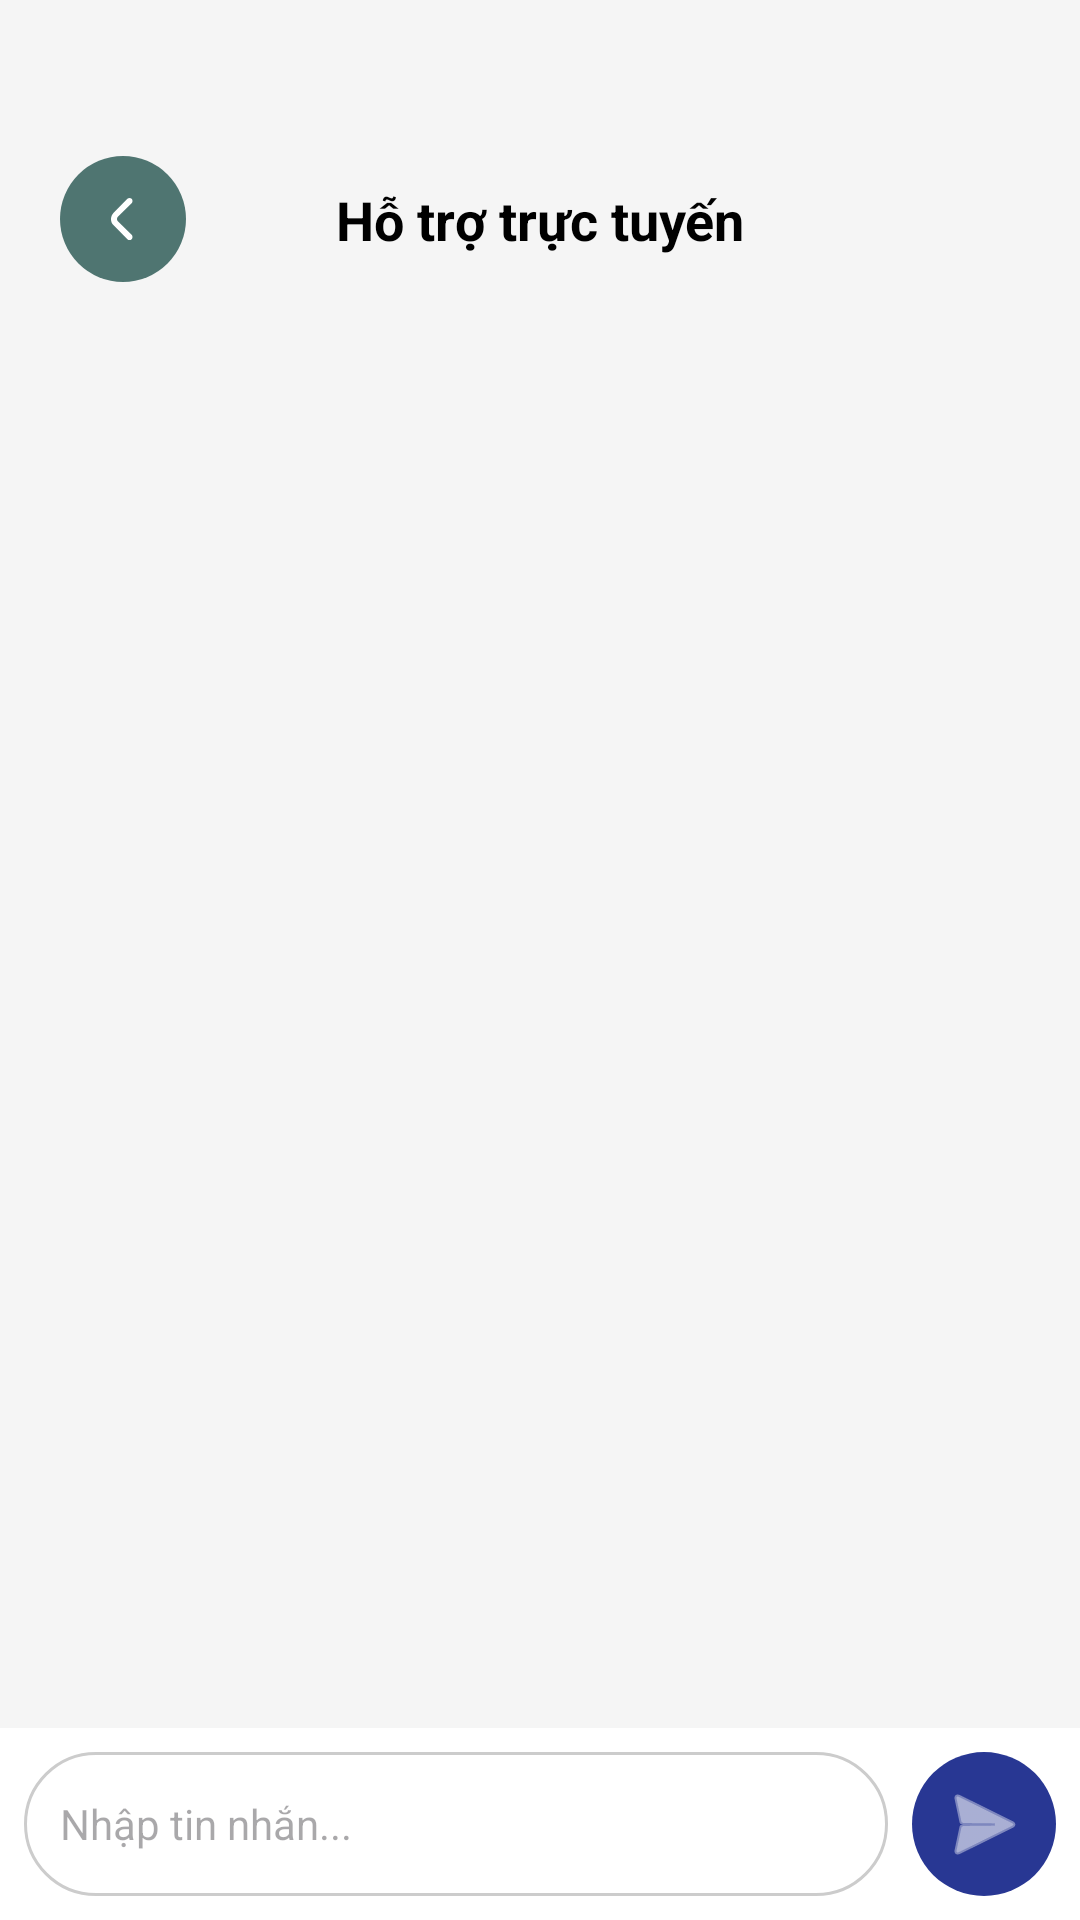

Point at icon controls on the screen. Image size 1080x1920, points as (x,y).
back: (123,219)
send: (984,1824)
